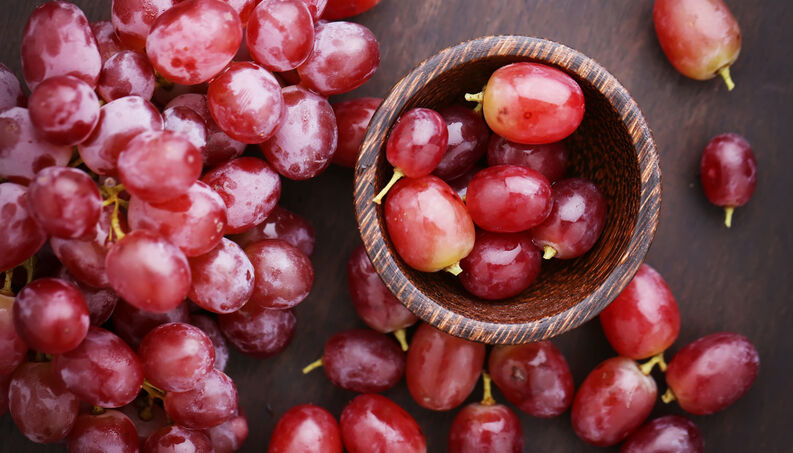Red Grapes: (372, 62, 624, 309)
